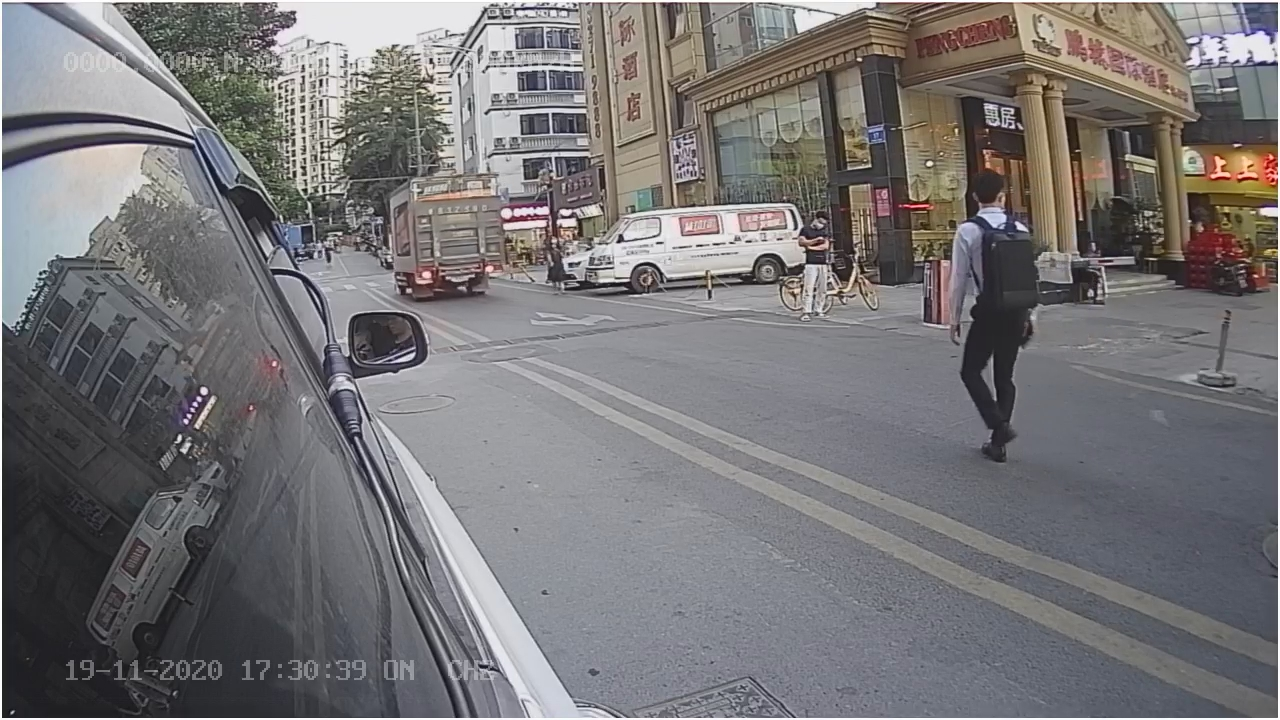person: (937, 172, 1031, 453)
